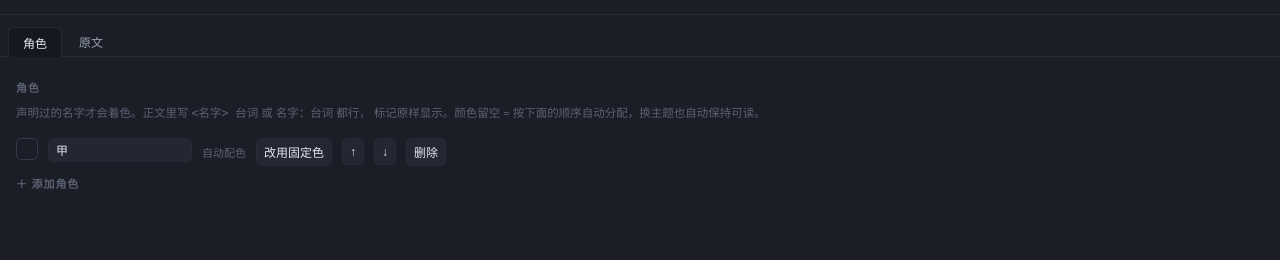
Test case: CharacterEditor › 名字含禁用字符被拒收
The width and height of the screenshot is (1280, 260).
Replace the text in the field with "a:b": [120, 150] box [48,138,192,162]
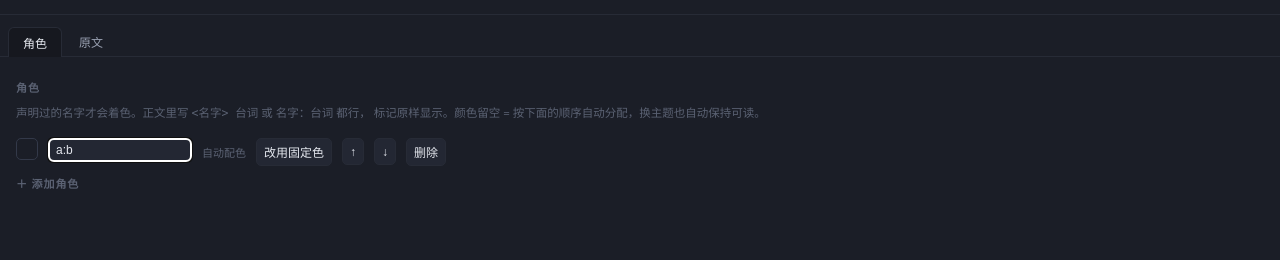
Press Tab
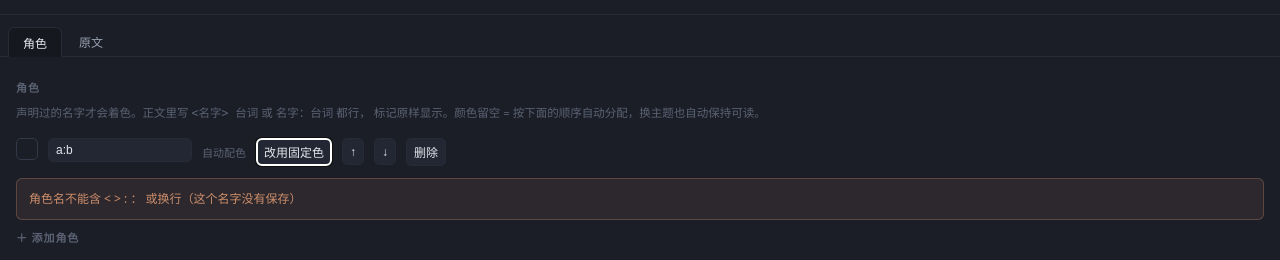
Now the message shows "不能含", box [16,178,1264,220]
